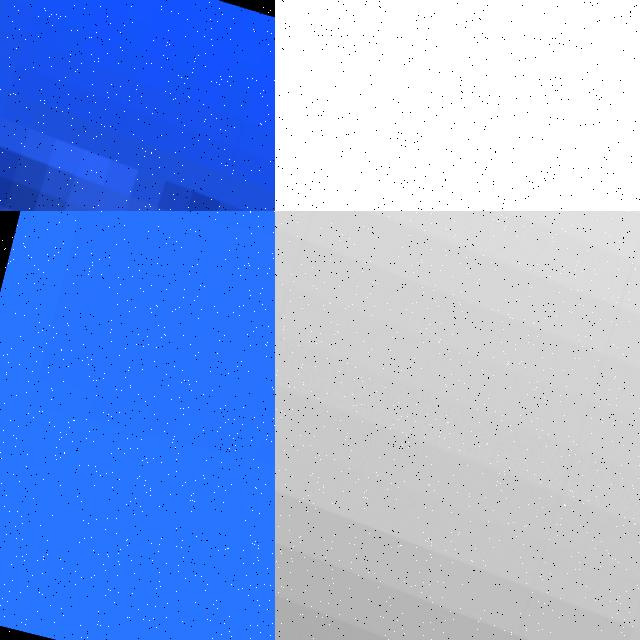drone: (275, 211, 640, 640), (0, 0, 275, 211)
